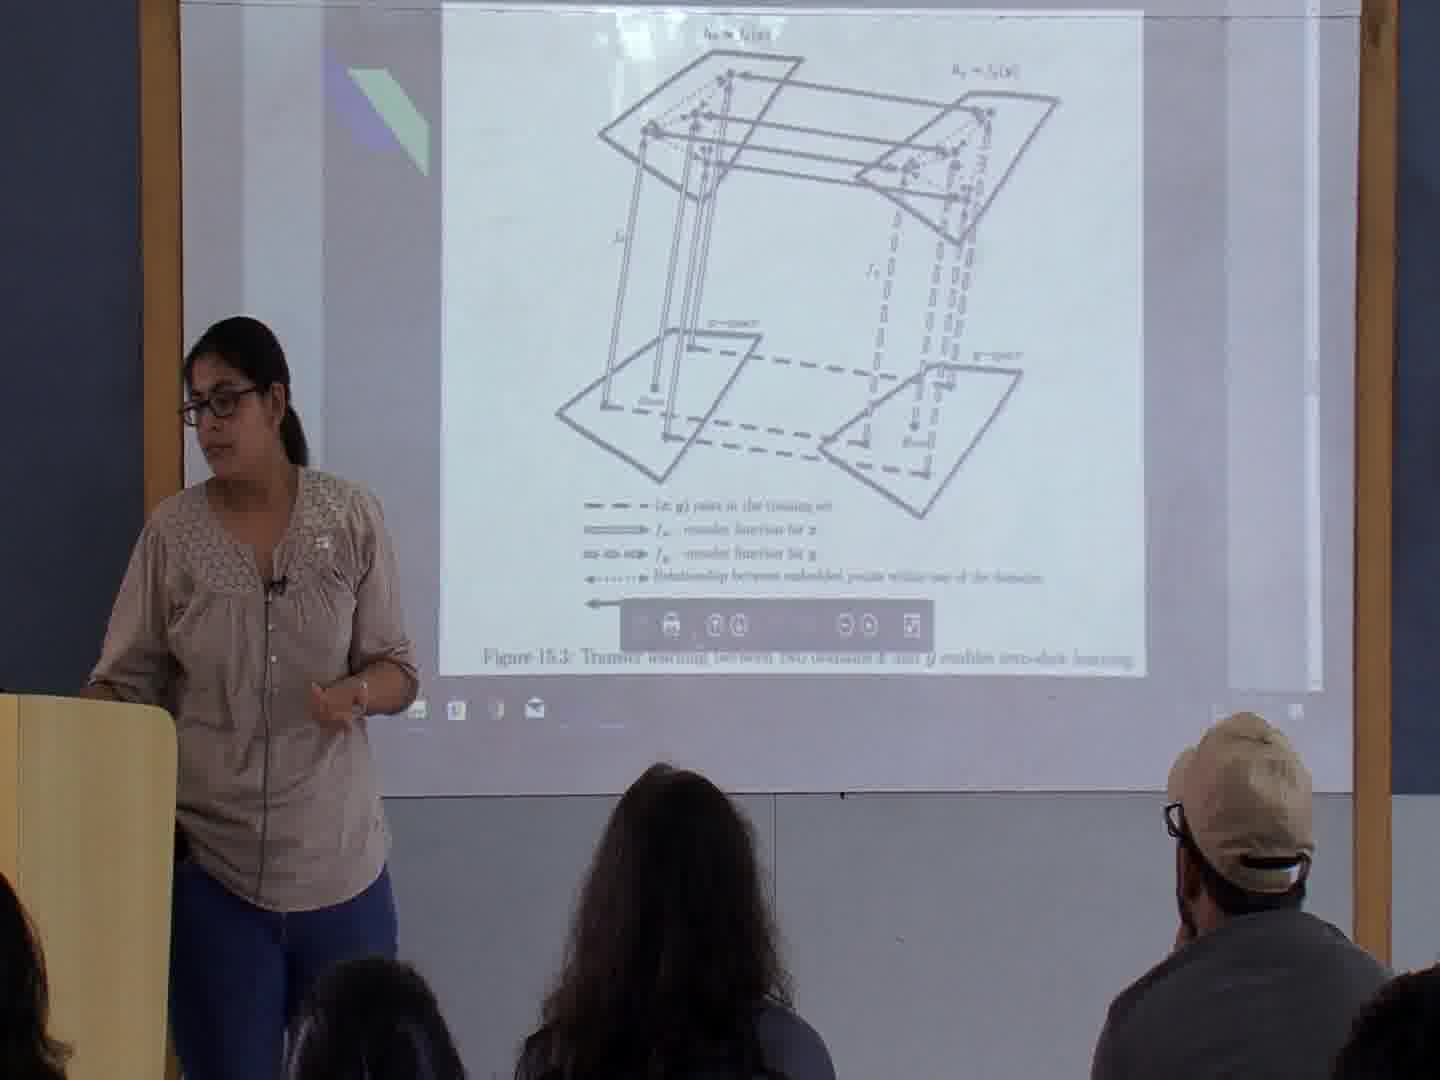fig: (551, 44, 1065, 524)
